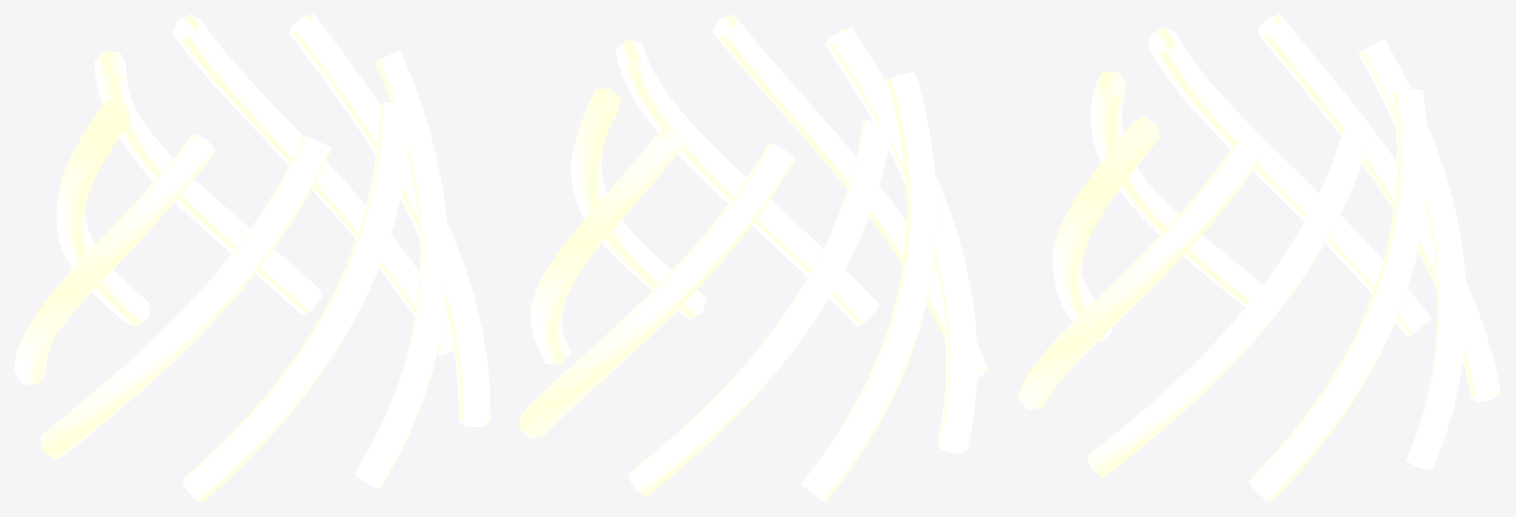
File: status.roots.glb
3 views of the same model, side by side, from view 1: azimuth 30°, elevation 25°; view 2: azimuth 150°, elevation 25°; view 3: azimuth 270°, elevation 25° (orthographic).
Parts seen in each view (by area): view 1: status.roots.sweep.008; view 2: status.roots.sweep.008; view 3: status.roots.sweep.008.
Boxes of the visible parts, bbox=[...] form: status.roots.sweep.008: bbox=[14, 14, 490, 502]; status.roots.sweep.008: bbox=[519, 14, 988, 502]; status.roots.sweep.008: bbox=[1017, 14, 1501, 502].
Size of the model in its own units: 1.39 by 1.03 by 1.39.
